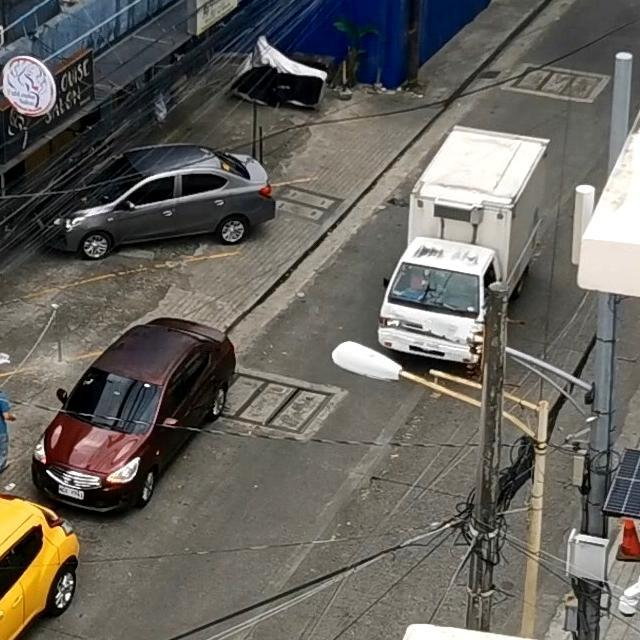Truck: (356, 122, 564, 379)
